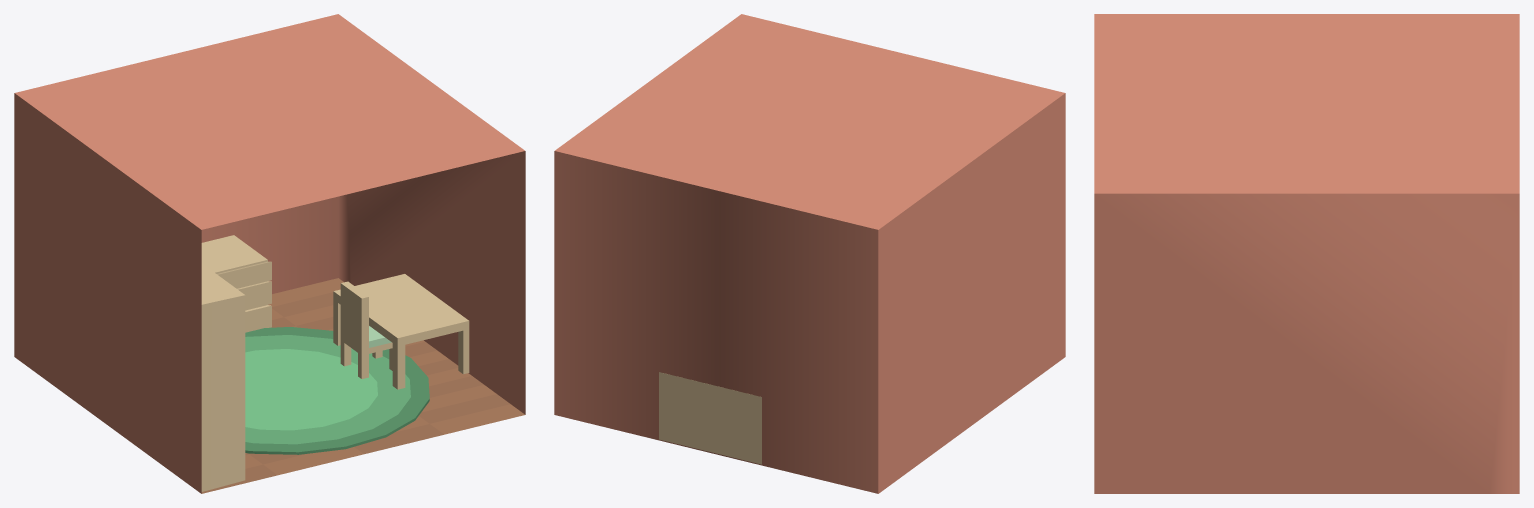
The model's file is inside room 2.fbx.
3 views of the same model, side by side, from view 1: azimuth 30°, elevation 25°; view 2: azimuth 150°, elevation 25°; view 3: azimuth 270°, elevation 25° (orthographic). The views are drawn at different scales.
Parts seen in each view (by area): view 1: pCube33; view 2: pCube33; view 3: pCube33.
Part boxes in pixels (x1,y1,x2,y2): pCube33: [14, 14, 525, 493]; pCube33: [554, 14, 1065, 493]; pCube33: [1094, 14, 1519, 493].
Size of the model in its own units: 2512 by 1998 by 2513.
